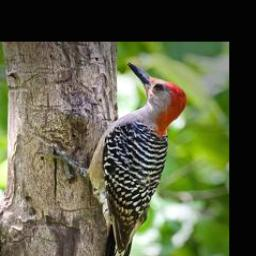Woodpecker: (33, 58, 198, 256)
